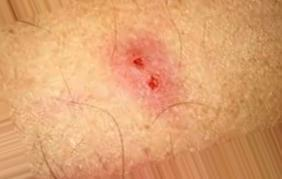Spider: (105, 29, 183, 116)
